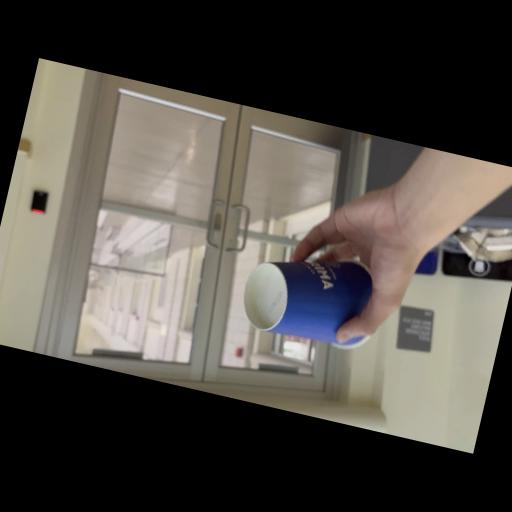lp_paper_cup: (227, 231, 399, 365)
